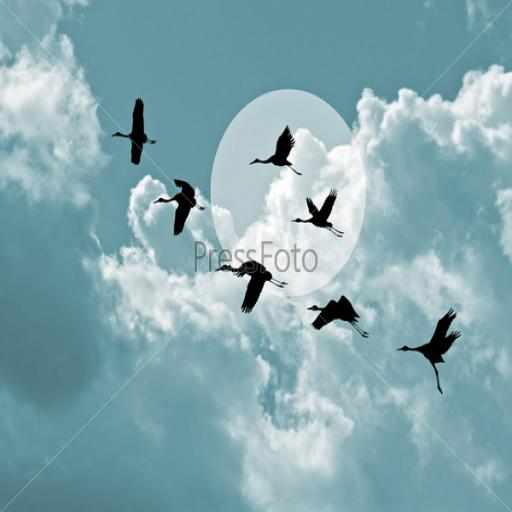birds: (396, 304, 462, 397), (215, 255, 289, 315), (109, 95, 158, 169), (152, 177, 207, 238), (290, 186, 348, 241), (305, 293, 371, 340), (248, 124, 303, 179)
